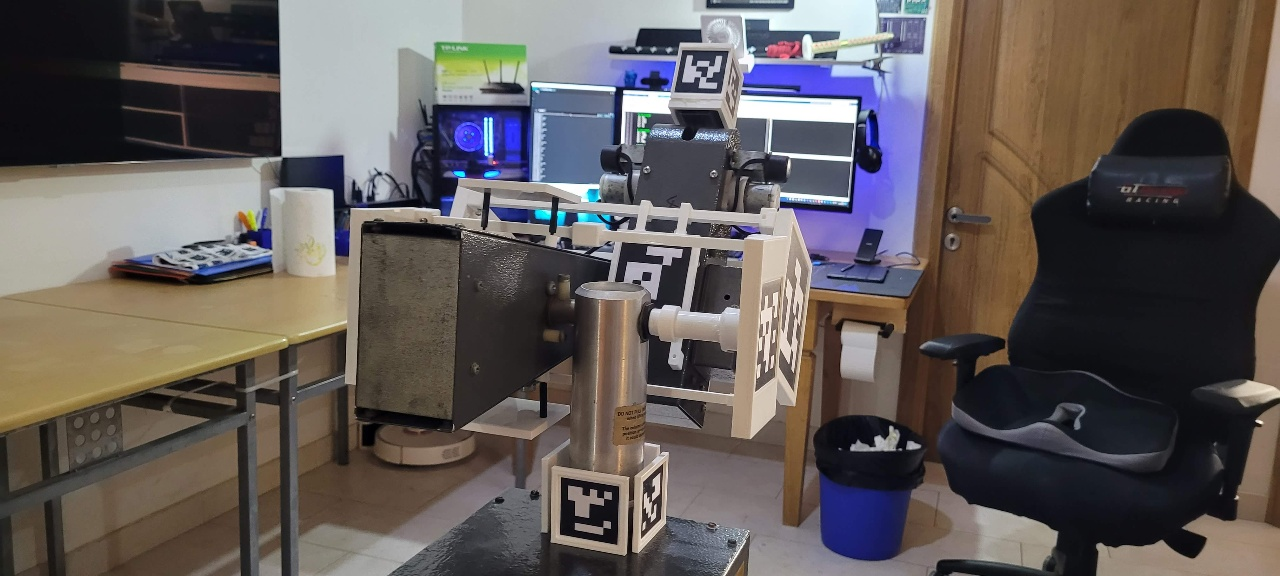Robot: (344, 40, 814, 553)
